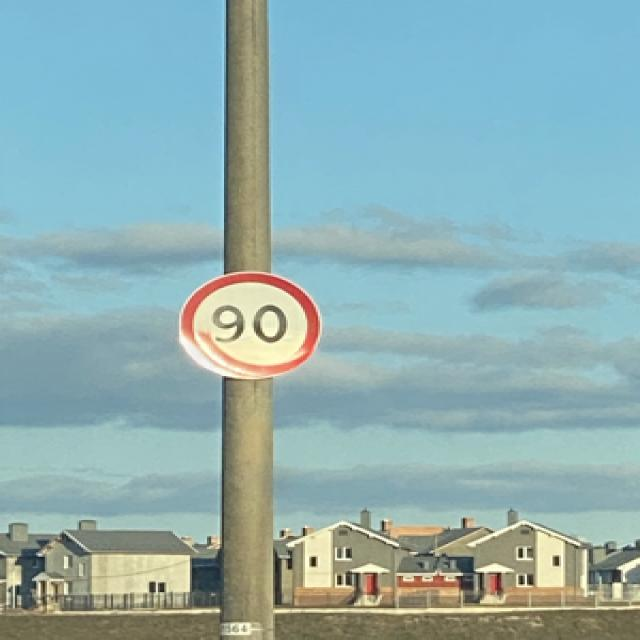speedlimit: (175, 270, 318, 376)
